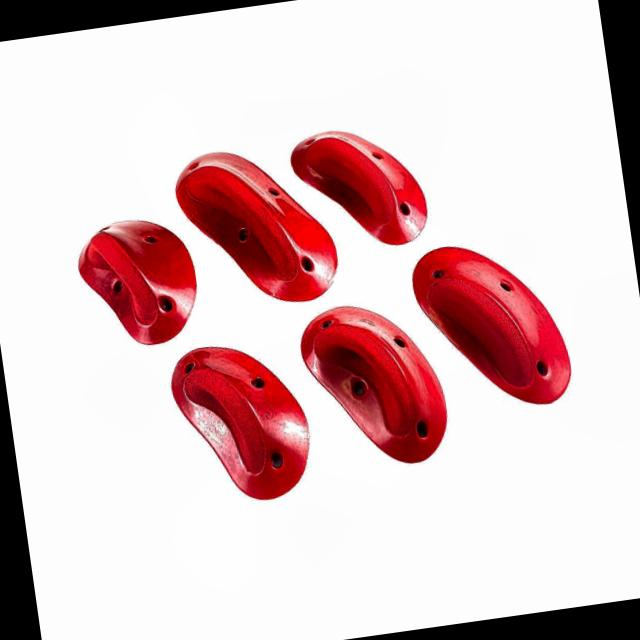Hold: (408, 229, 576, 421), (170, 137, 344, 319), (296, 292, 454, 480), (166, 332, 319, 513), (286, 116, 432, 259), (72, 210, 205, 355)
